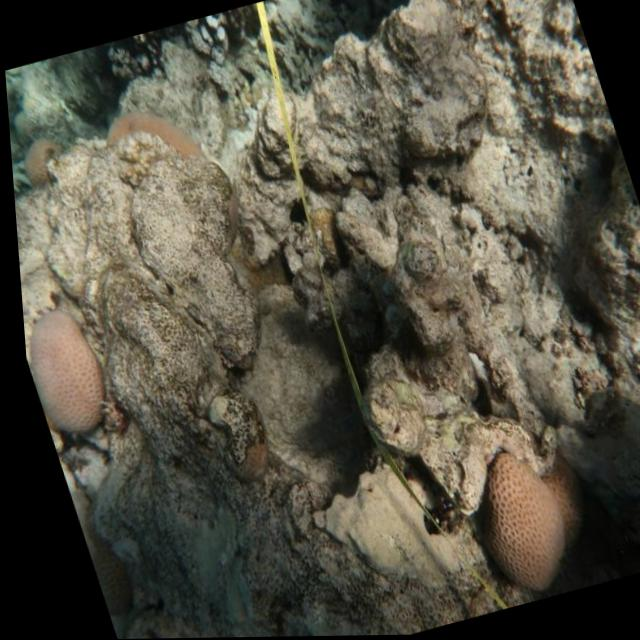Healthy Coral: (436, 439, 579, 607), (17, 292, 114, 445), (94, 90, 204, 182), (8, 127, 70, 191)
